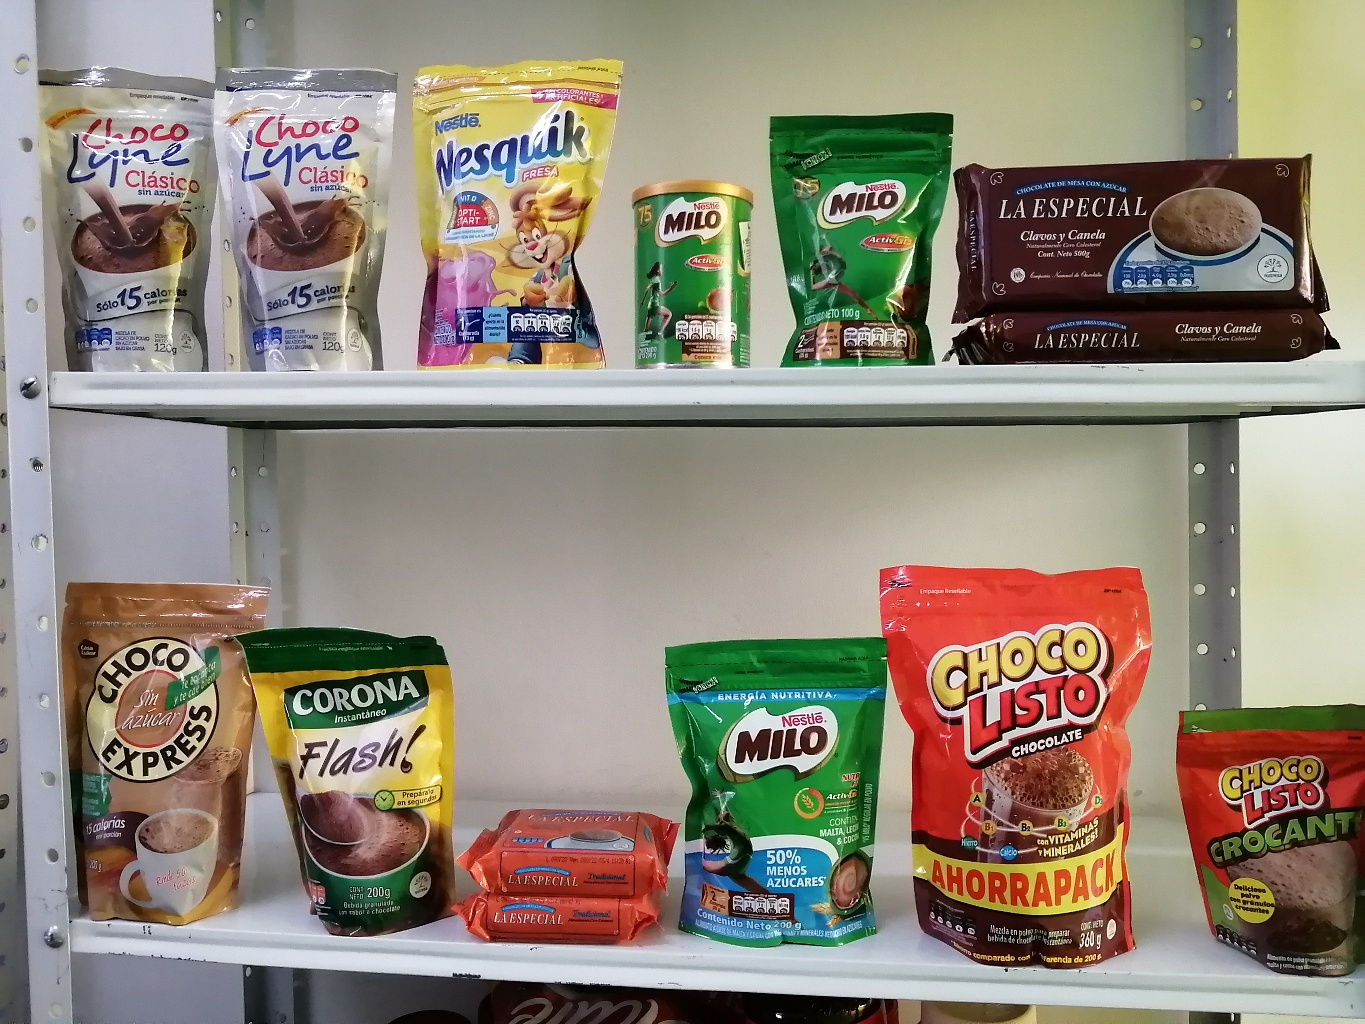COL0170102DYP10000: (1176, 700, 1362, 976)
COL0170103DYP36000: (888, 557, 1181, 967)
COL0170203DYP10000: (769, 103, 959, 374)
COL0170203LAT20000: (632, 174, 765, 369)
COL0170205DYP20000: (662, 636, 893, 955)
COL0170305DYP20000: (409, 49, 621, 372)
